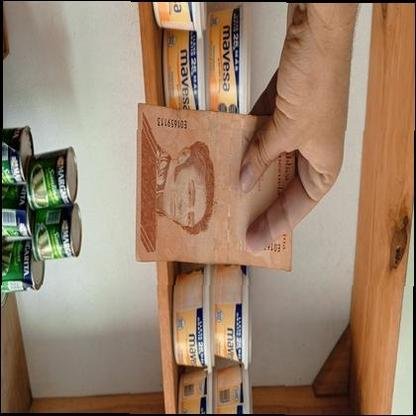twenty-front-vef: (134, 101, 296, 272)
